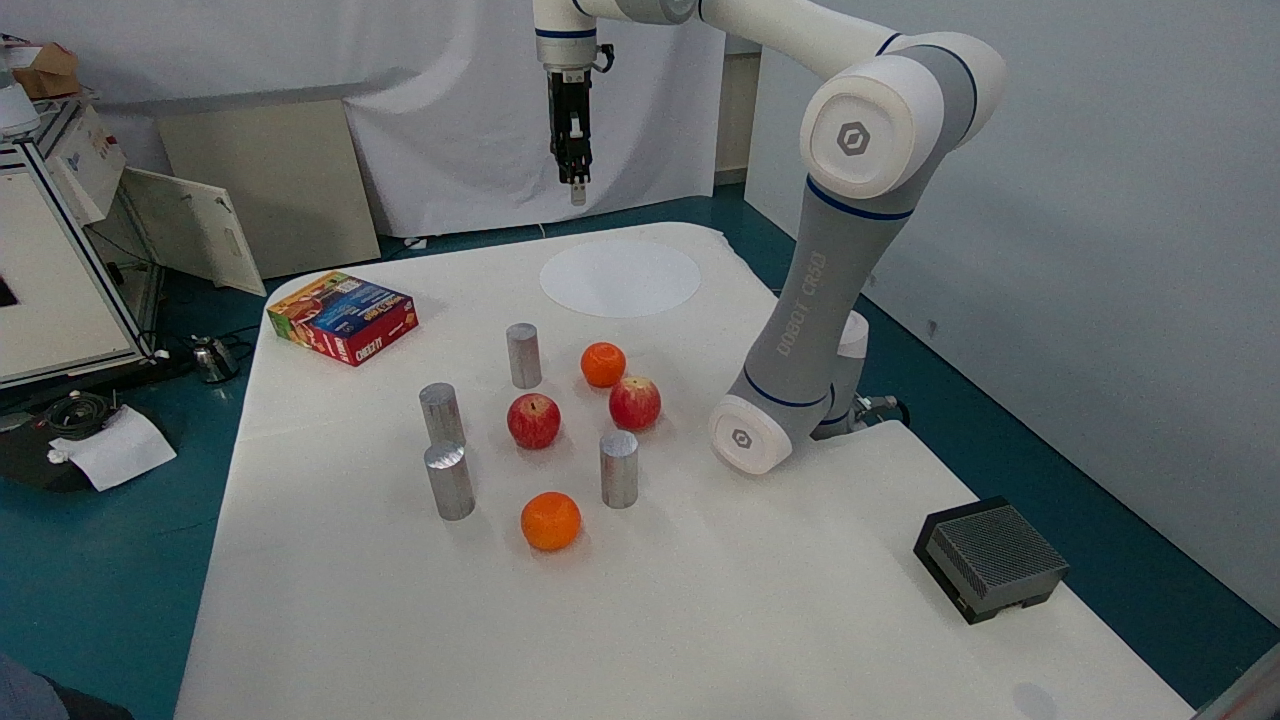apple: (508, 479, 601, 568), (573, 333, 633, 386)
metal rod: (501, 382, 566, 460), (598, 378, 677, 433)
orange: (407, 429, 480, 526), (587, 426, 651, 509), (409, 370, 475, 450), (496, 309, 553, 392)
